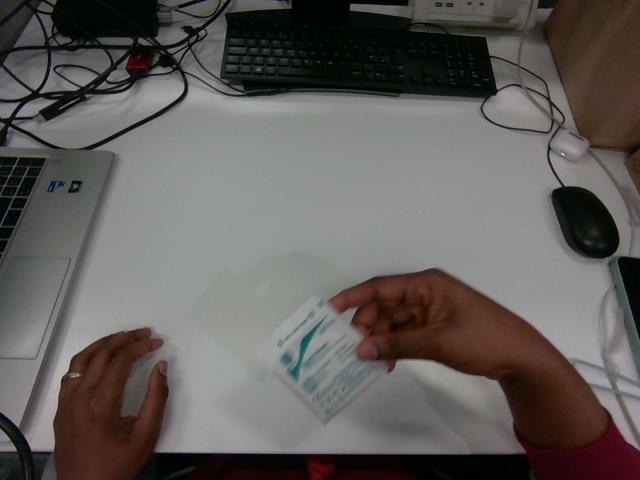gauze: (258, 297, 387, 421)
